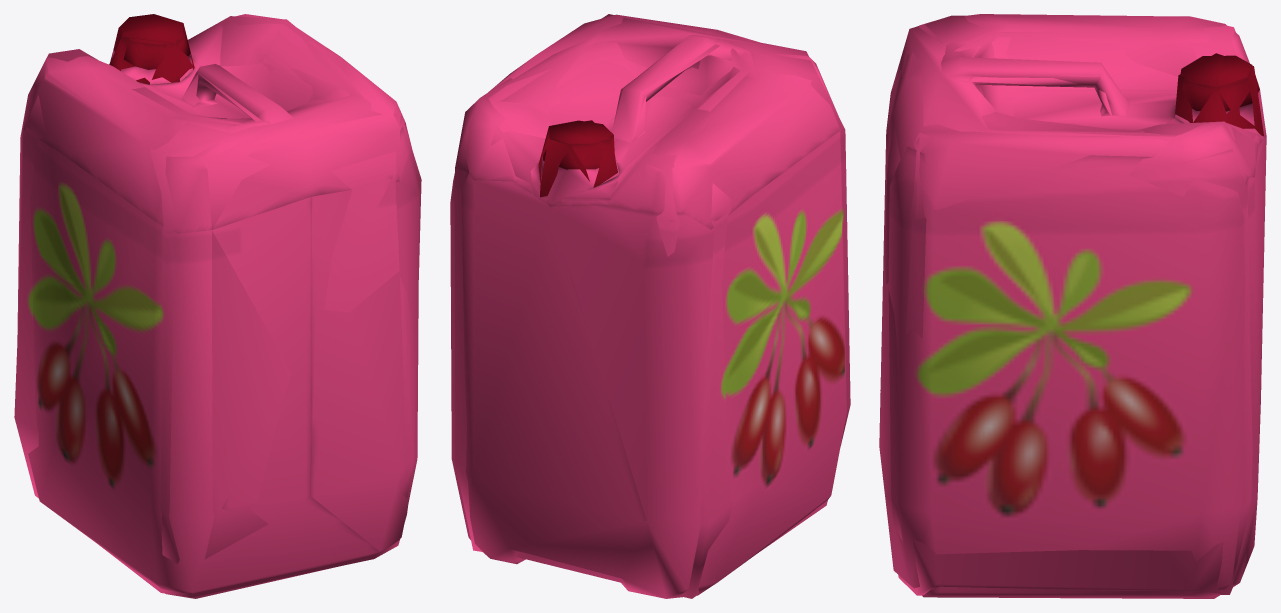
The model's file is for_soda.fbx.
3 renders of one model, left to right at view 1: azimuth 30°, elevation 25°; view 2: azimuth 150°, elevation 25°; view 3: azimuth 270°, elevation 25°, orthographic. The views are drawn at different scales.
Parts seen in each view (by area): view 1: kanistra-6, kanistra-6.001; view 2: kanistra-6, kanistra-6.001; view 3: kanistra-6, kanistra-6.001.
Boxes of the visible parts, left/top/right/bottom form: kanistra-6: left=17, top=14, right=419, bottom=598; kanistra-6.001: left=14, top=16, right=421, bottom=597; kanistra-6: left=450, top=14, right=847, bottom=598; kanistra-6.001: left=455, top=14, right=850, bottom=598; kanistra-6: left=879, top=14, right=1266, bottom=598; kanistra-6.001: left=880, top=15, right=1264, bottom=595.
Bounding box in the file's own units: 31.7 × 49.81 × 36.28.
